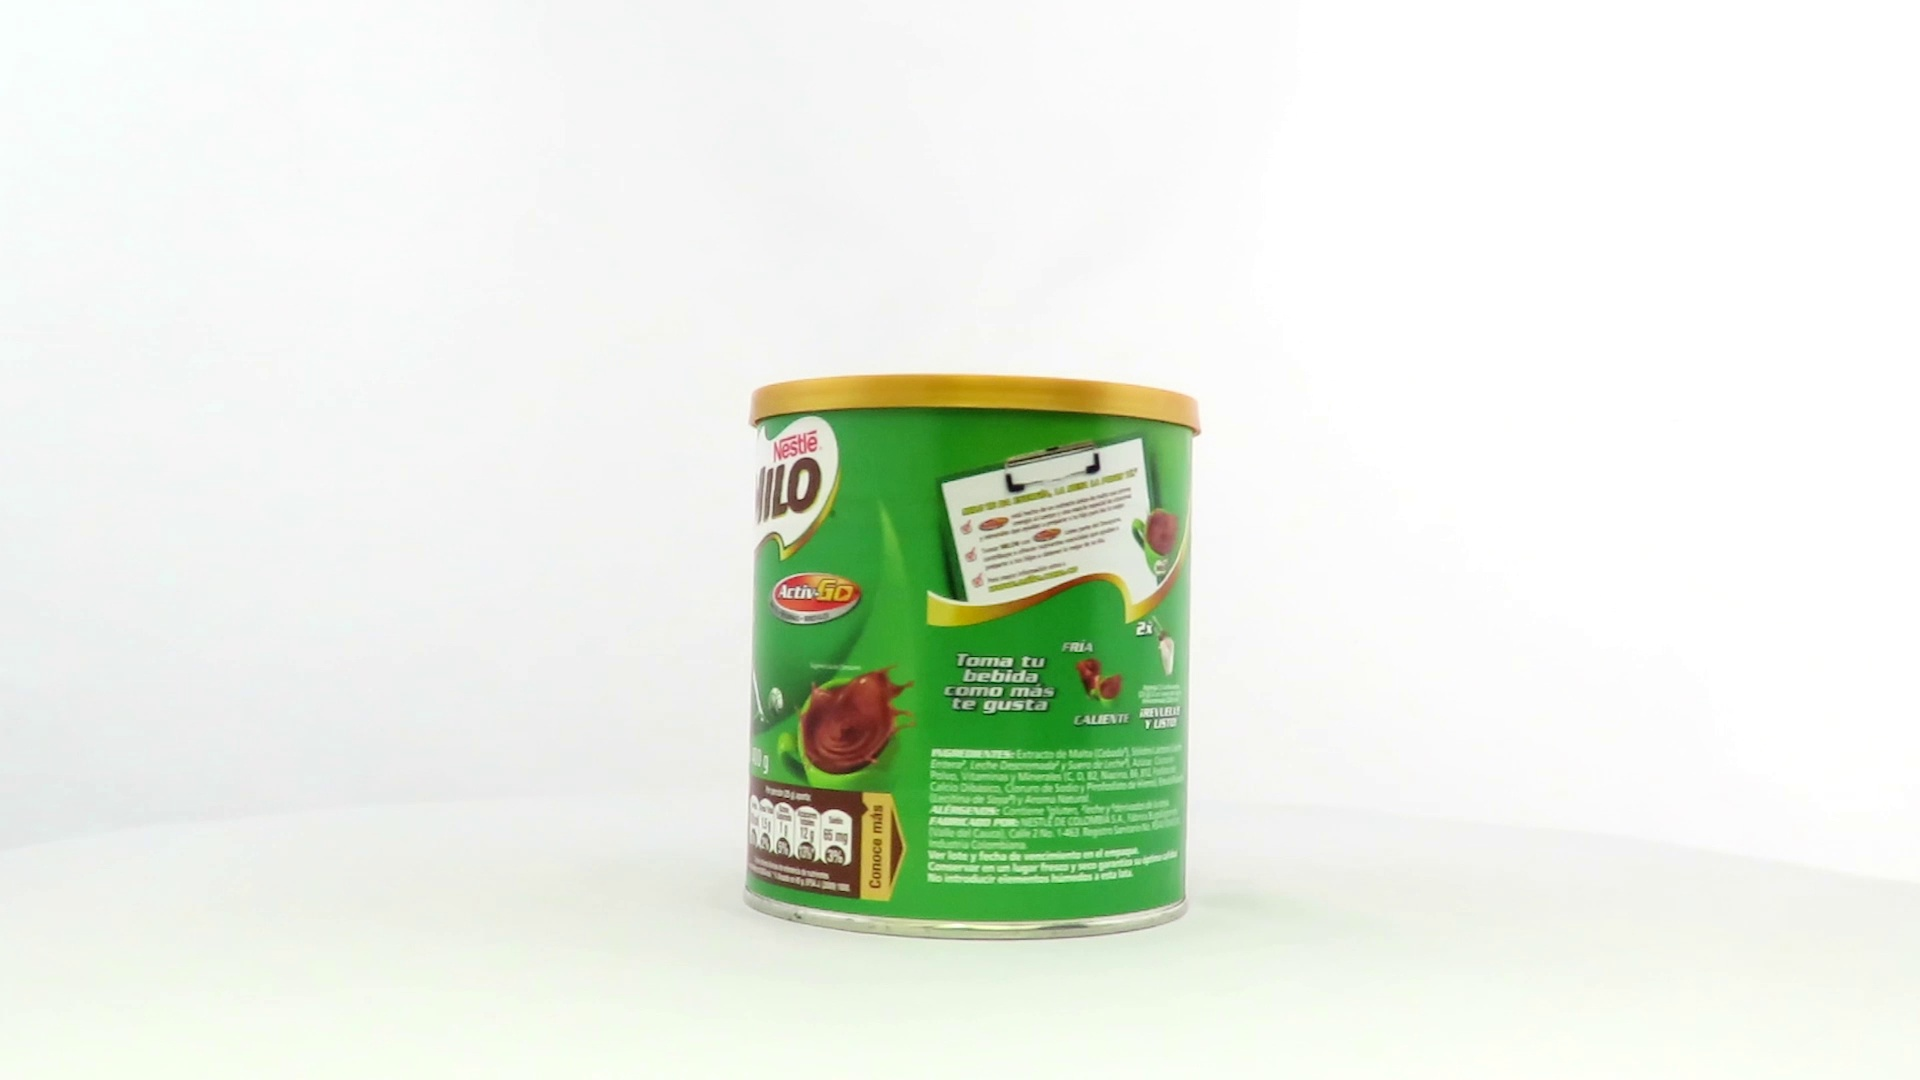COL0170203LAT40000: (737, 369, 1207, 947)
